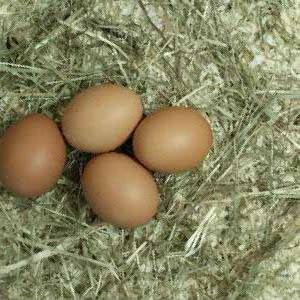egg: (81, 152, 160, 228), (1, 114, 65, 200), (61, 85, 143, 152), (133, 109, 213, 172)
